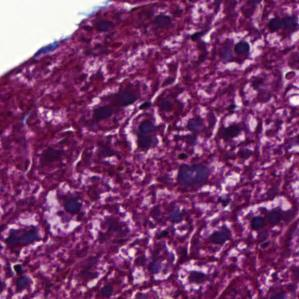inflammation: (169, 156, 240, 203), (39, 182, 97, 237), (118, 109, 175, 156), (212, 31, 263, 74)
